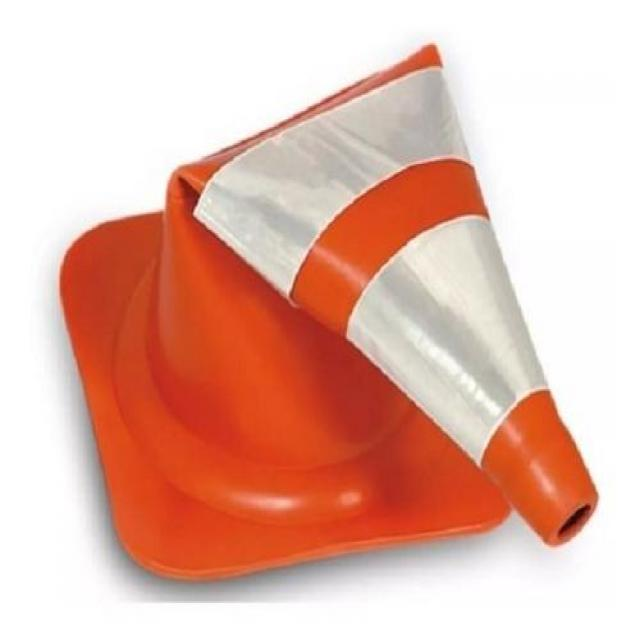cone: (60, 24, 611, 596)
